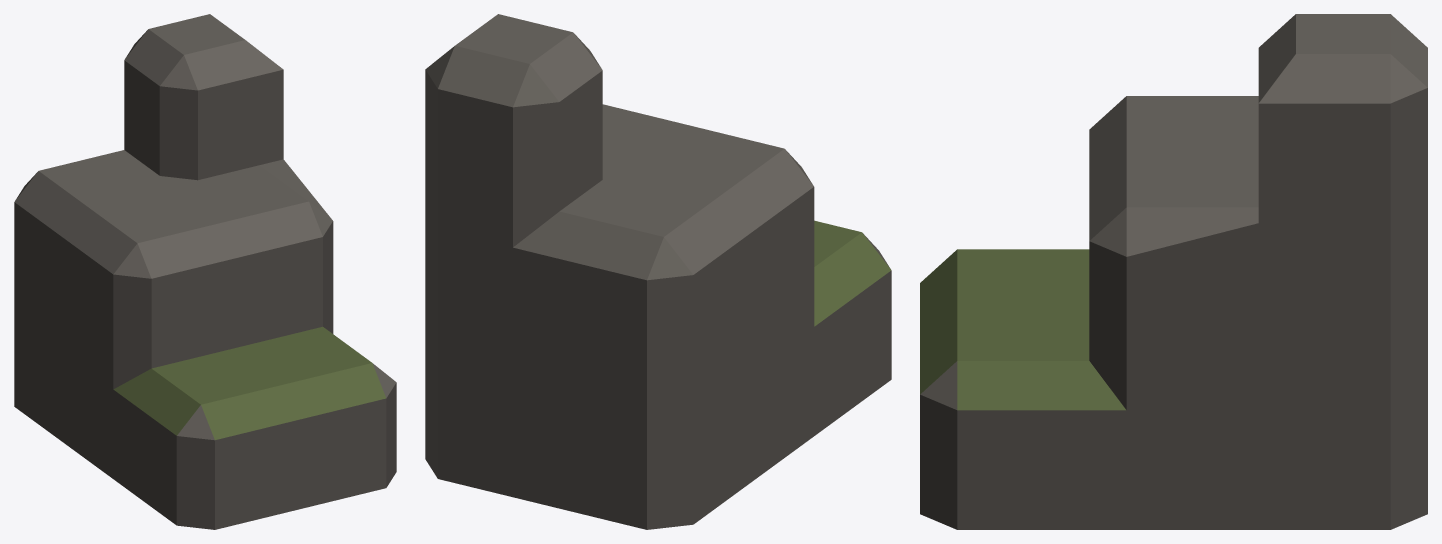
File: stone_debris_single.glb
3 renders of one model, left to right at view 1: azimuth 30°, elevation 25°; view 2: azimuth 150°, elevation 25°; view 3: azimuth 270°, elevation 25°, orthographic. The views are drawn at different scales.
Parts seen in each view (by area): view 1: stone_debris_single; view 2: stone_debris_single; view 3: stone_debris_single.
Part boxes in pixels (left/top/right/bottom): stone_debris_single: left=14, top=14, right=396, bottom=529; stone_debris_single: left=425, top=14, right=891, bottom=529; stone_debris_single: left=920, top=14, right=1427, bottom=529.
Bounding box in the file's own units: 0.2 × 0.3 × 0.3.
Materials: 1 (1 with a texture image).
